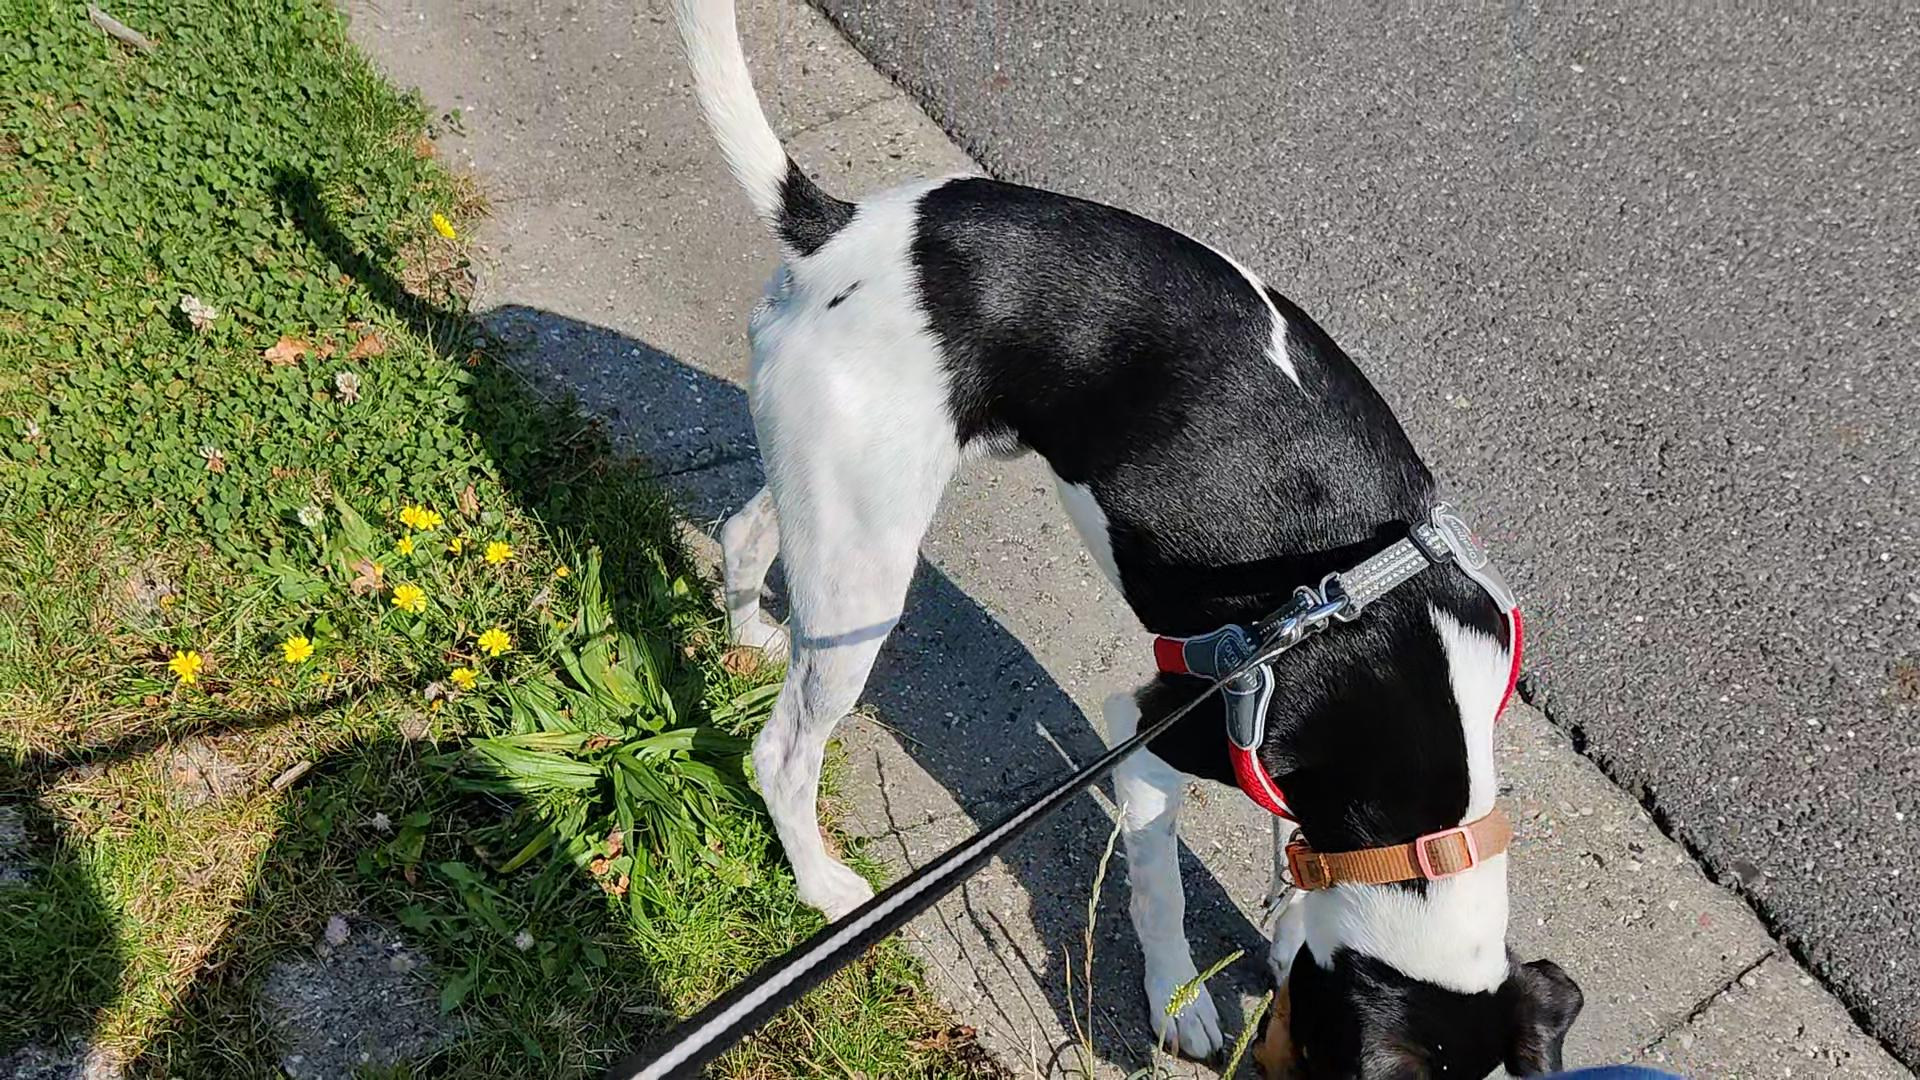Dog: (640, 0, 1602, 1079)
